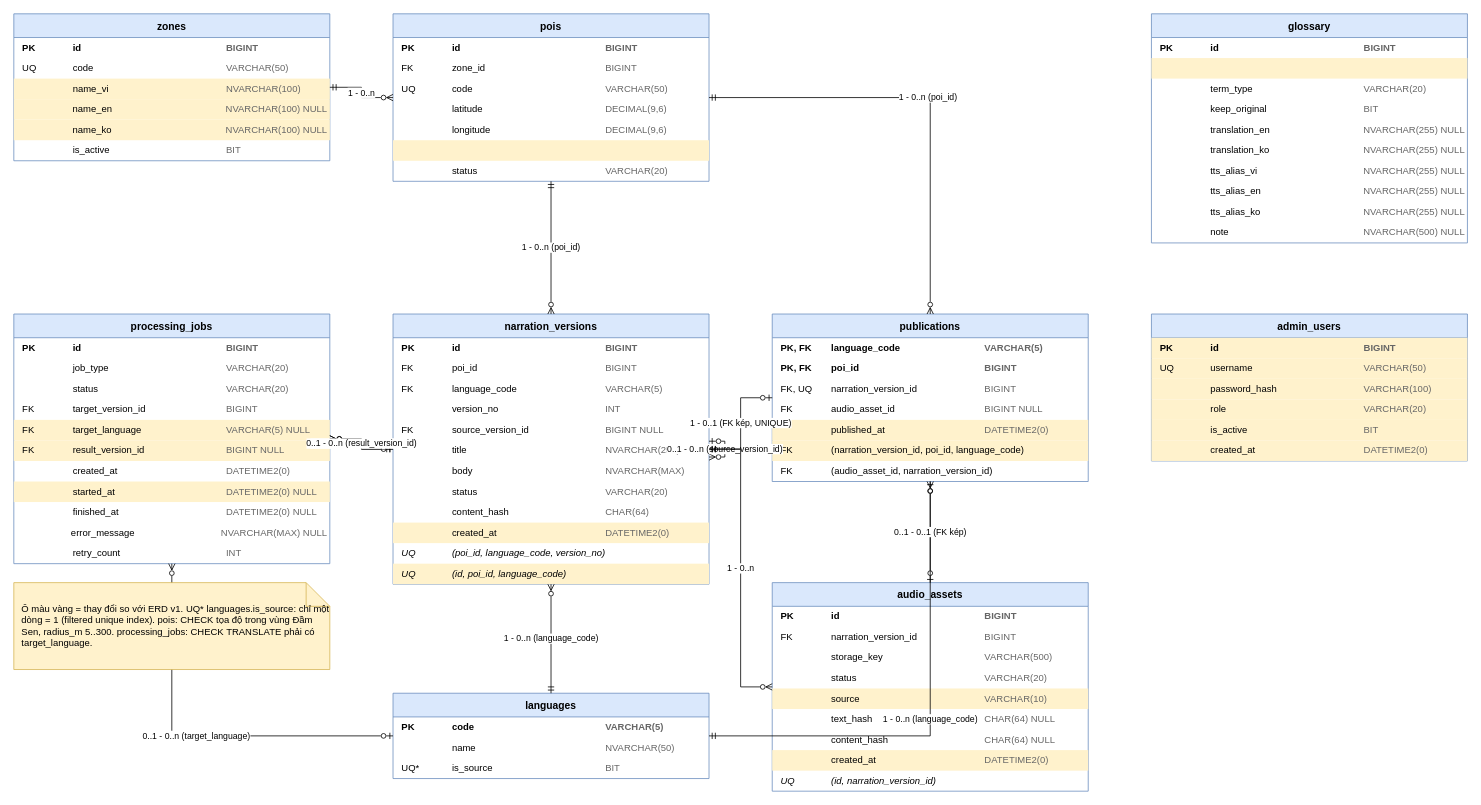
Some shapes in this 1481 by 805 pixel diagram are drawn without their labels. The centre of each missing label's shape, as x and y in pixels:
"radius_m INT" goes at [551,150].
"UQ term NVARCHAR(255)" goes at [1309,68].
